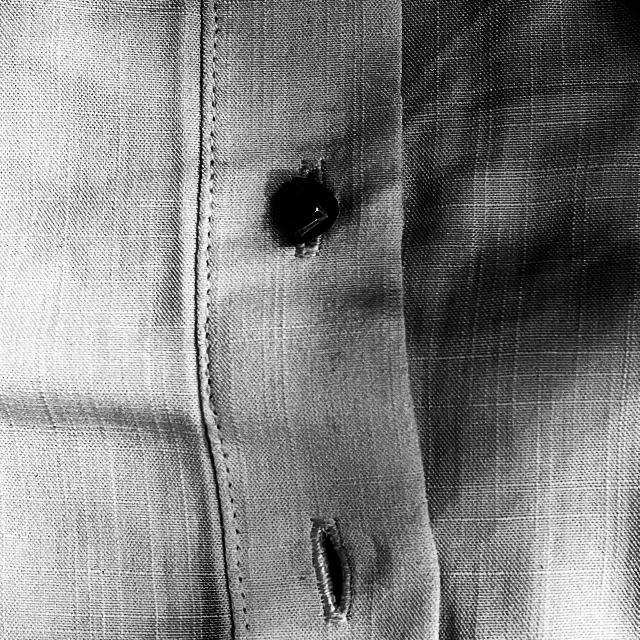Broken_button: (259, 165, 360, 256)
